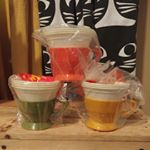cups: (9, 78, 71, 131), (80, 79, 137, 135)
